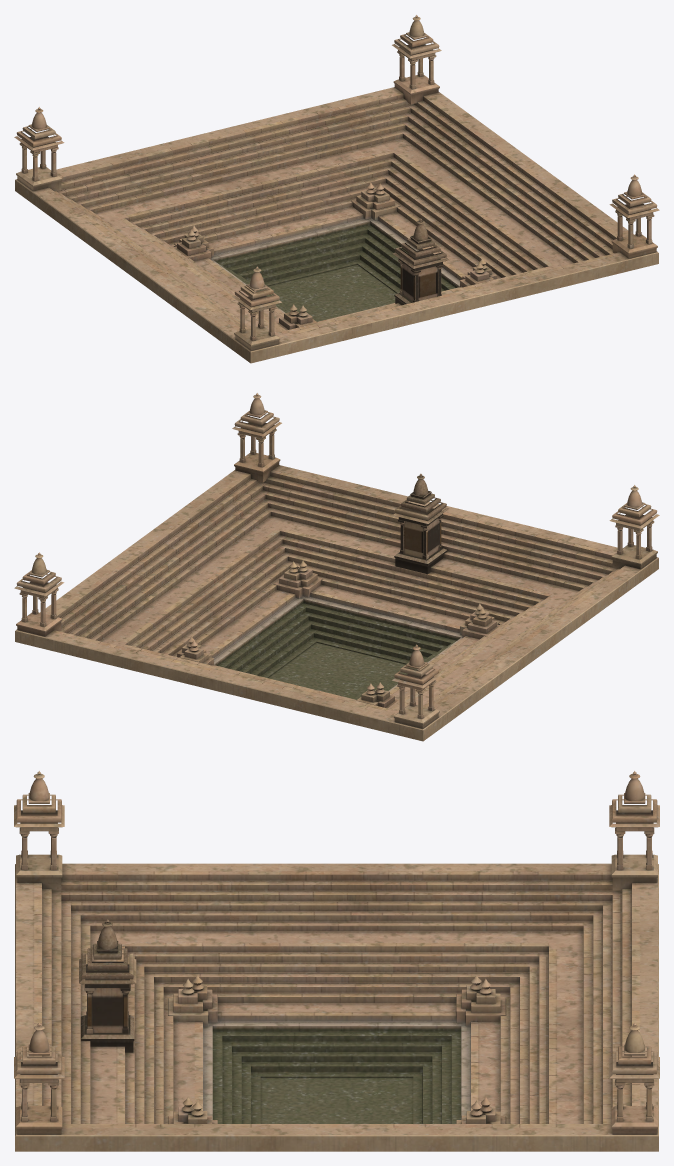
File: temple-kund.glb
3 views of the same model, one above another, from view 1: azimuth 30°, elevation 25°; view 2: azimuth 150°, elevation 25°; view 3: azimuth 270°, elevation 25° (orthographic). The views are drawn at different scales.
Parts seen in each view (by area): view 1: lod0; view 2: lod0; view 3: lod0.
Part boxes in pixels (<box>): lod0: <box>14,15,659,363</box>; lod0: <box>14,393,659,741</box>; lod0: <box>14,771,659,1151</box>.
Size of what is drawn, in the model's own units: 24.09 by 8.8 by 24.09.
1 material, 1 textured.
